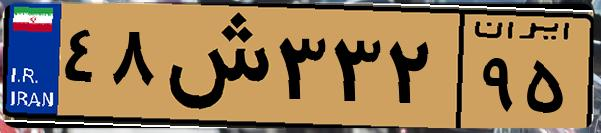2: (385, 28, 445, 110)
3: (270, 28, 330, 110), (330, 28, 385, 110)
4: (57, 26, 110, 100)
5: (525, 38, 570, 115)
8: (110, 28, 158, 98)
9: (475, 38, 525, 113)
ش: (158, 12, 270, 120)
